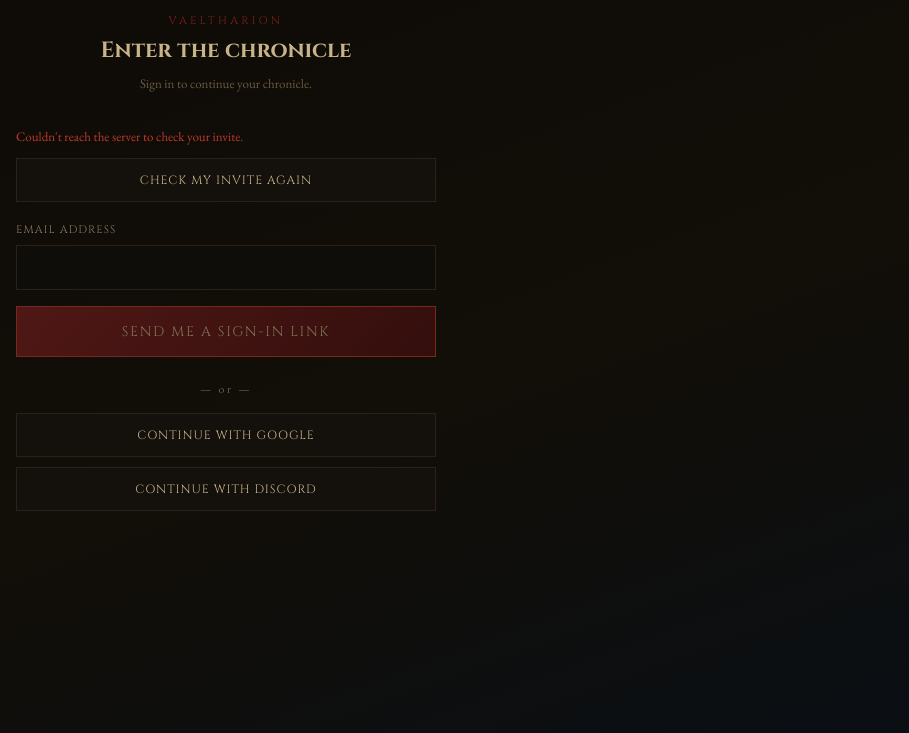
SignIn: invites › a server error offers a retry that redeems again
Click the button "Check my invite again". click: (226, 180)
box: [16,158,436,202]
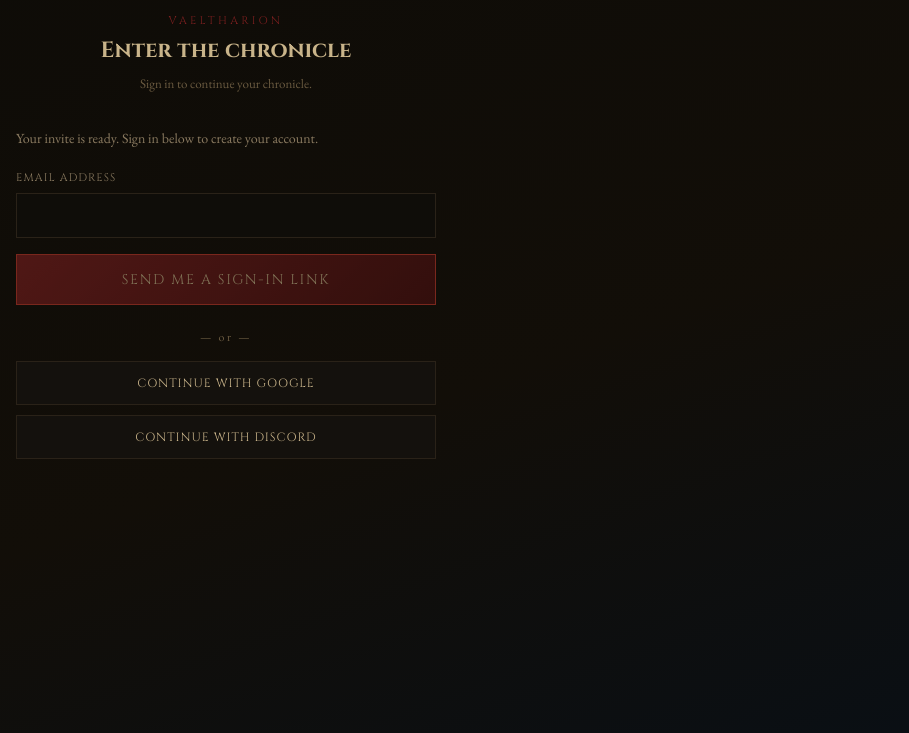
Expected: the text "Your invite is ready. Sign in below to create your account." is shown, [16,129,318,147]
